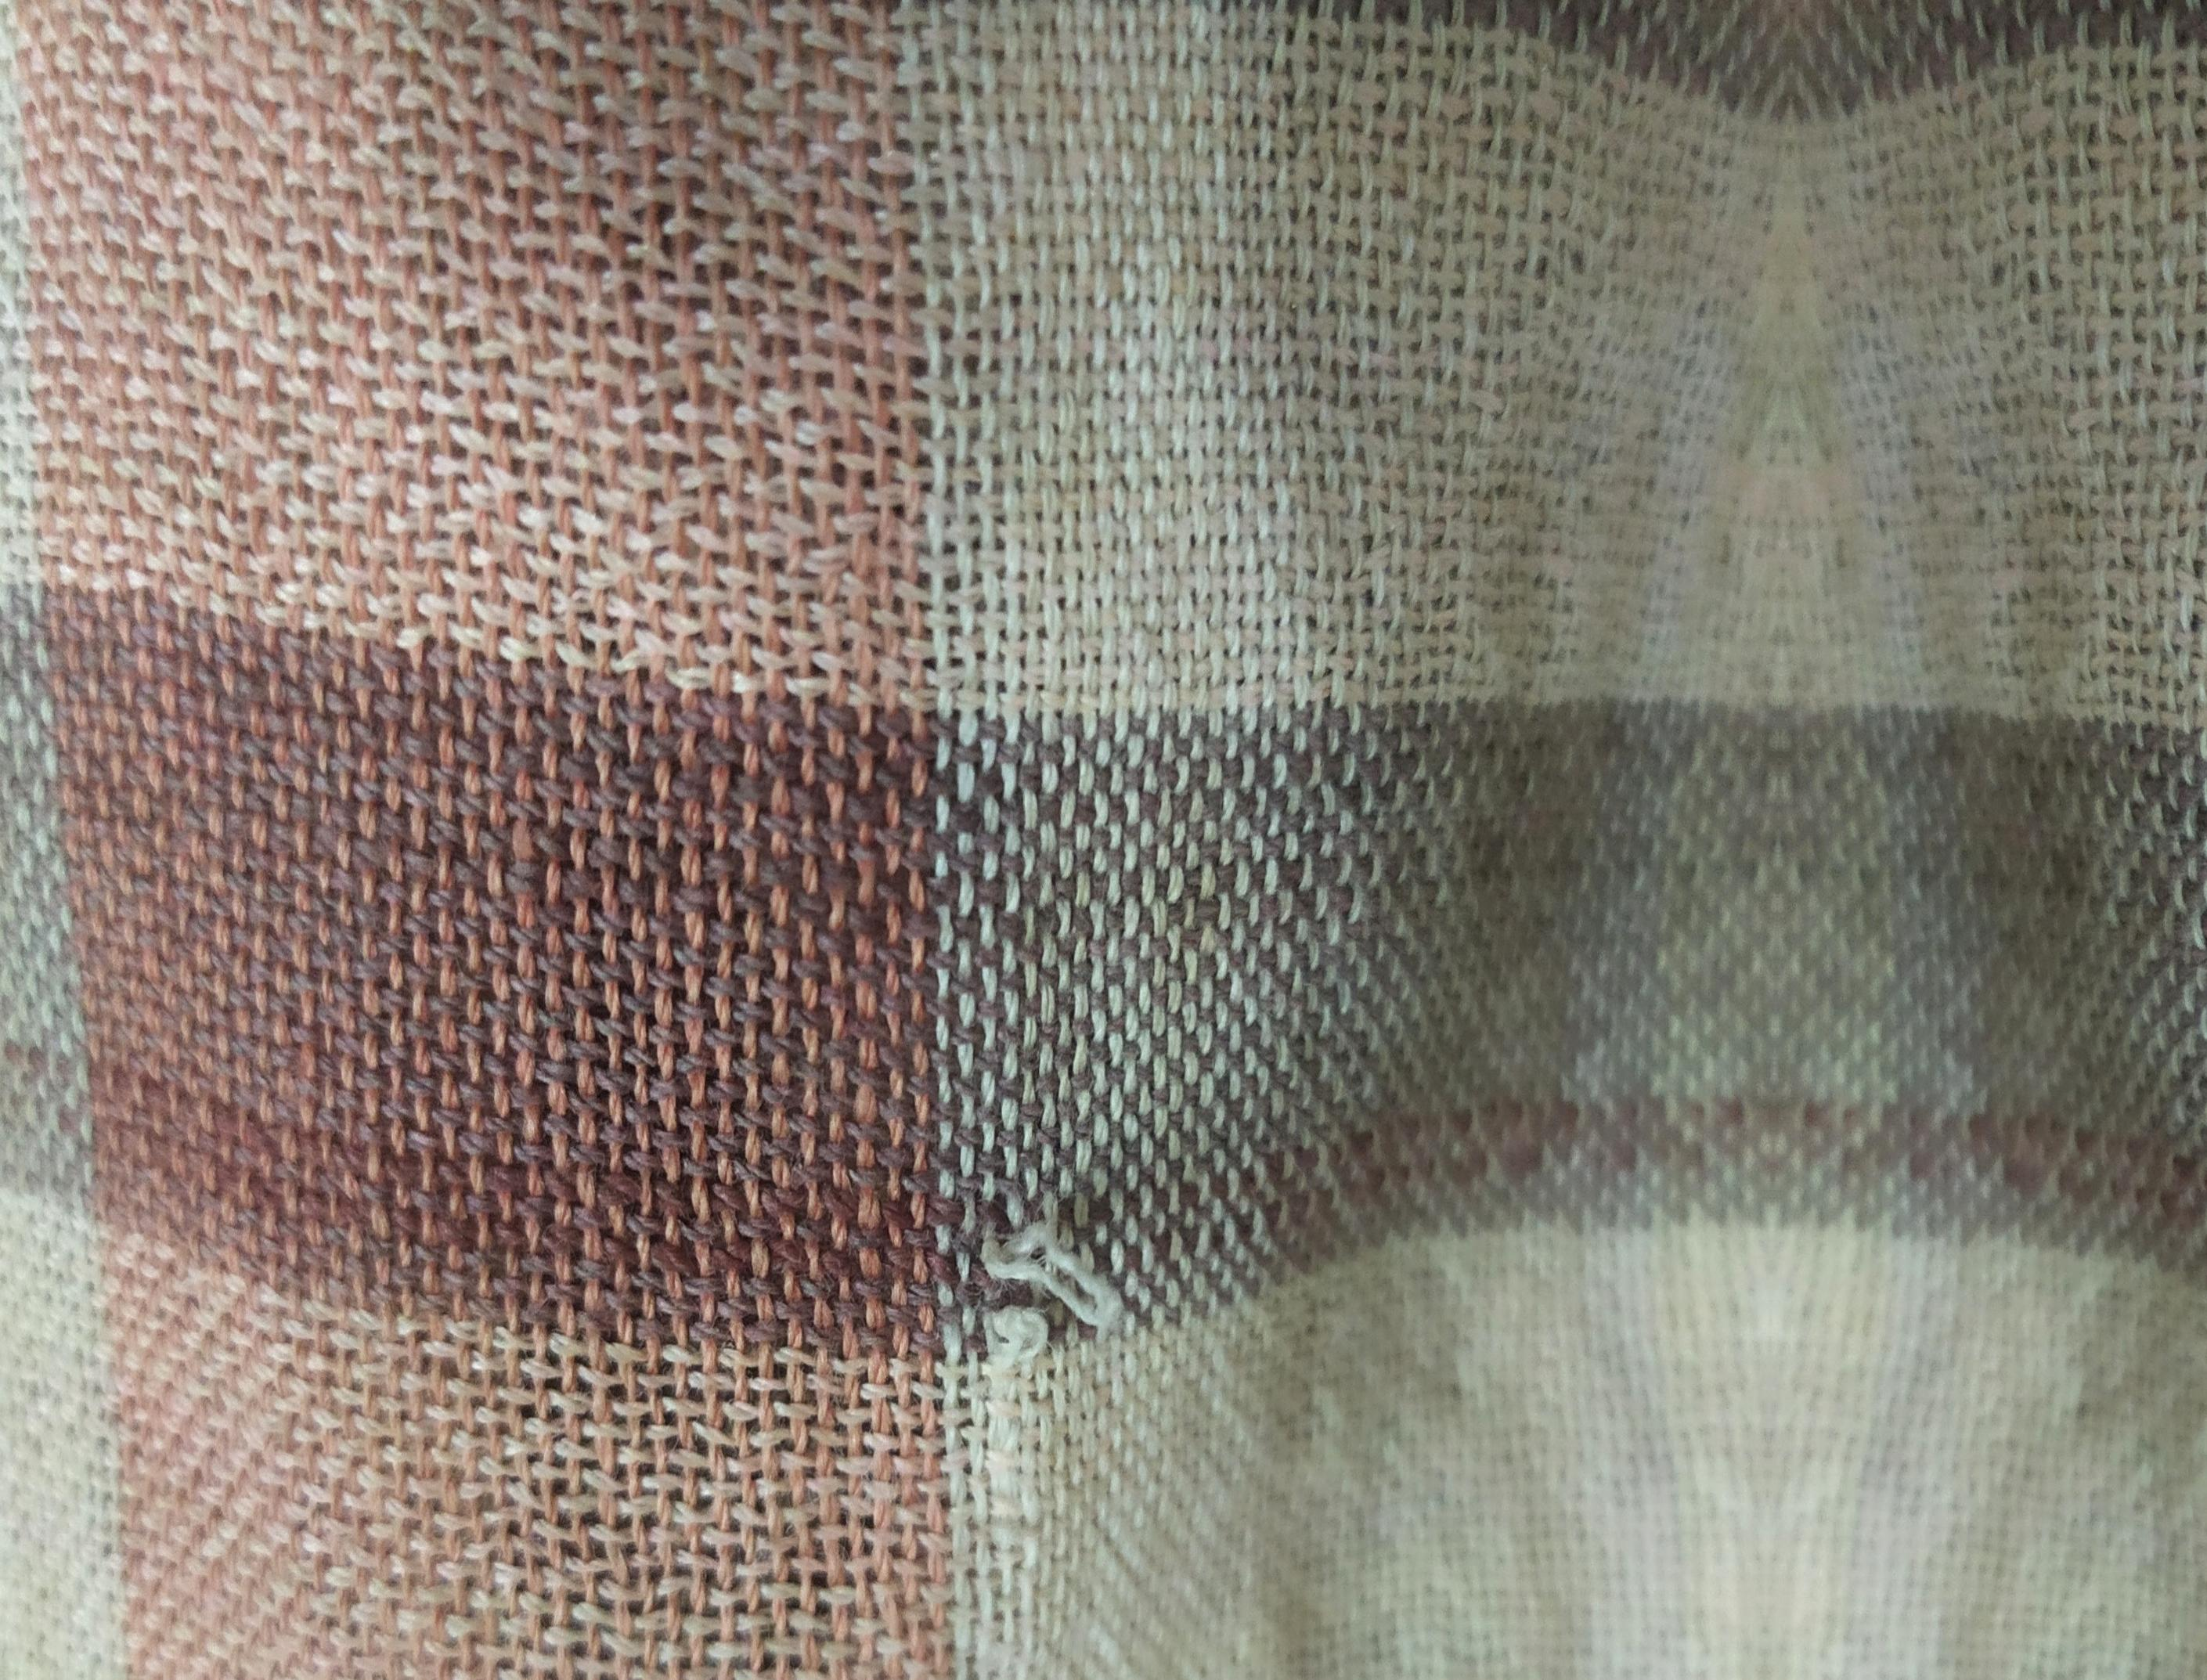snag: (956, 1196, 1129, 1385)
